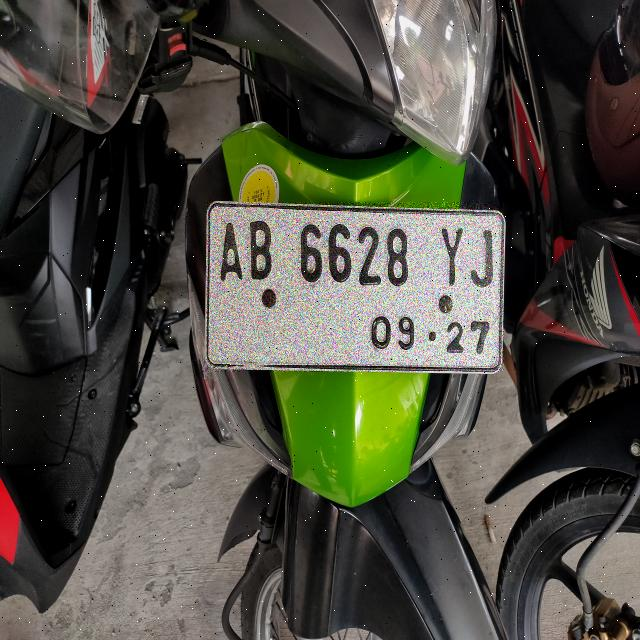plate: (206, 203, 503, 371)
